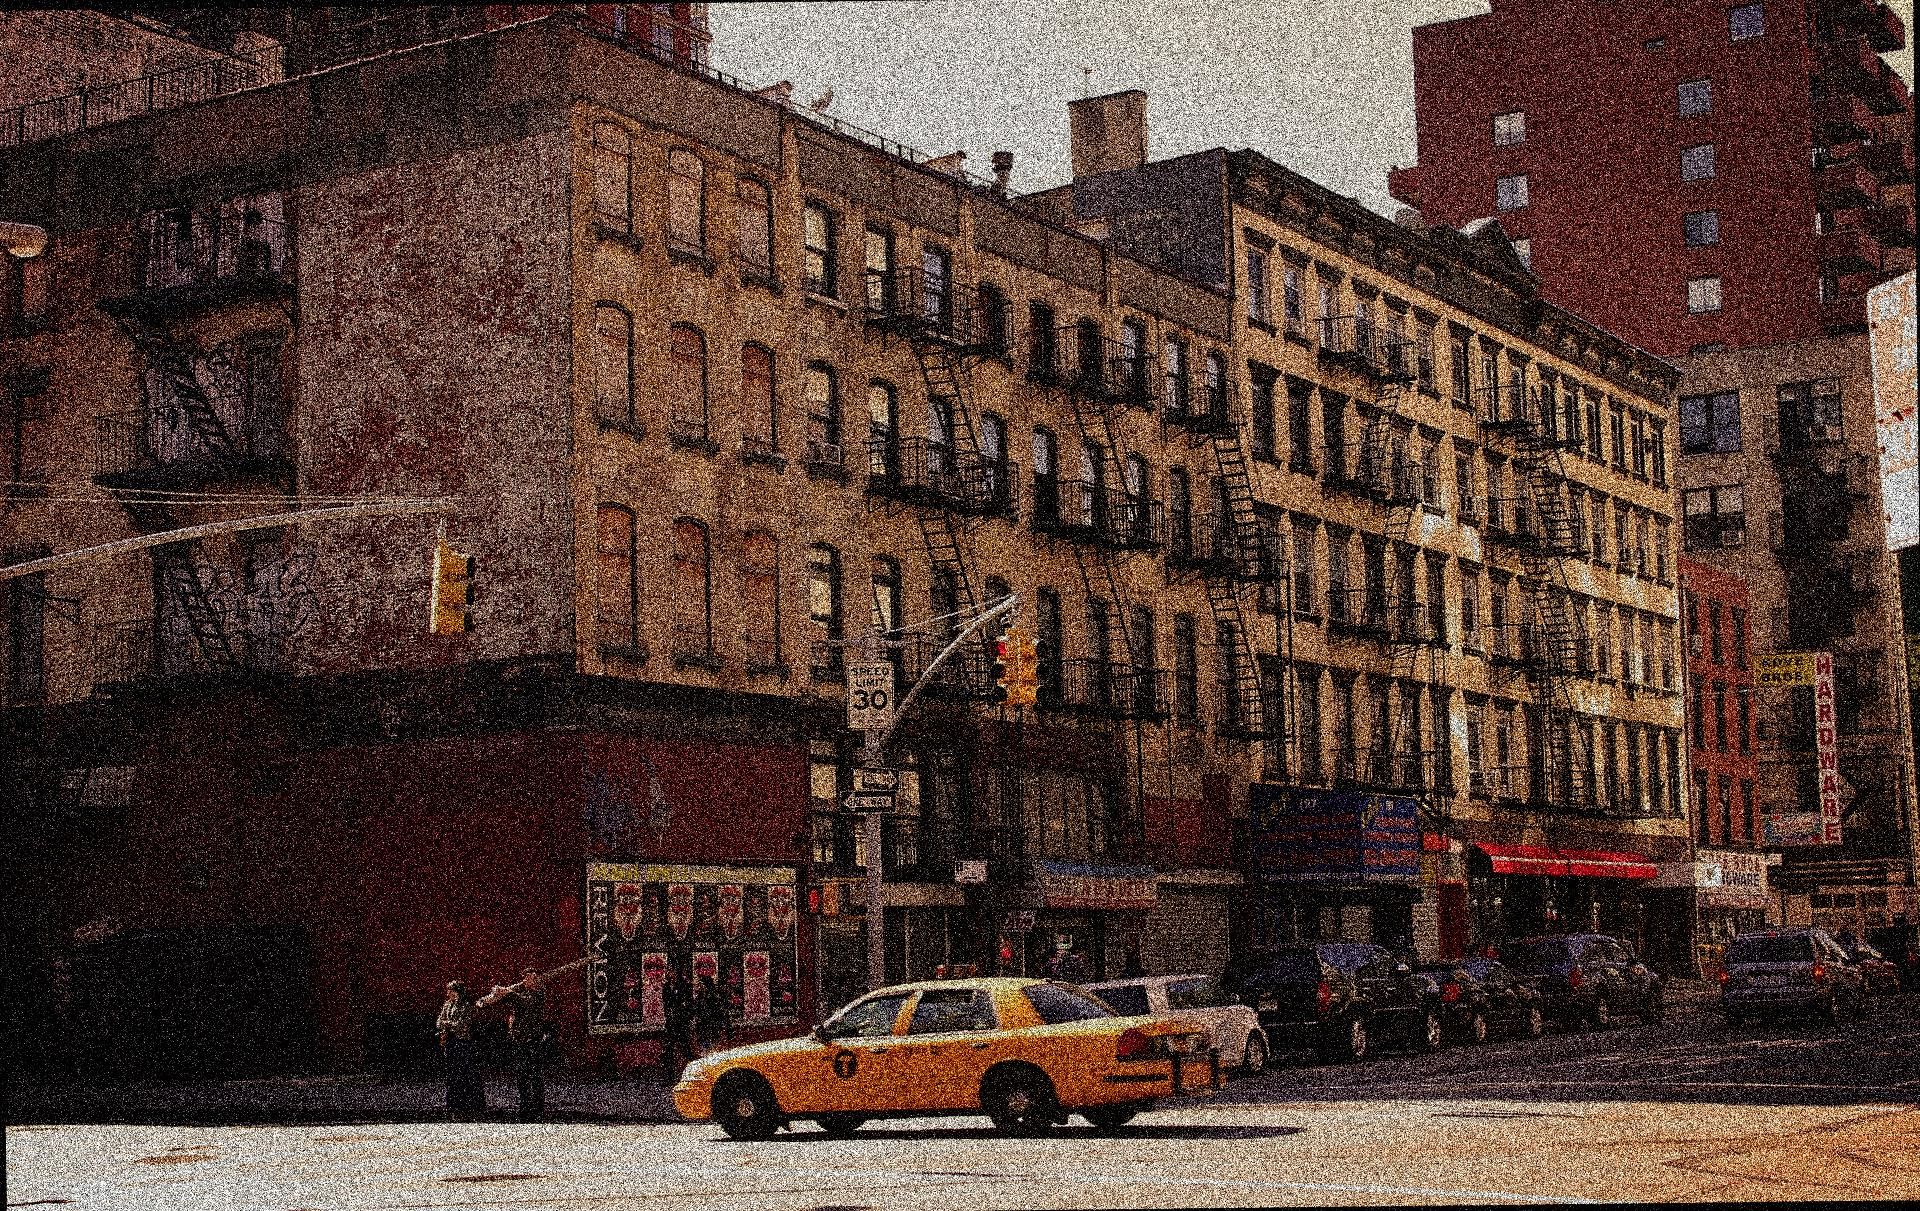taxi: (661, 970, 1208, 1143)
